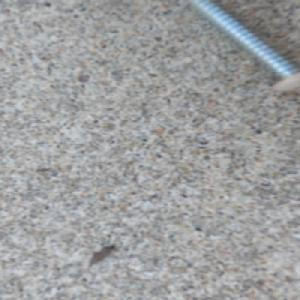Screw: (188, 0, 300, 94)
